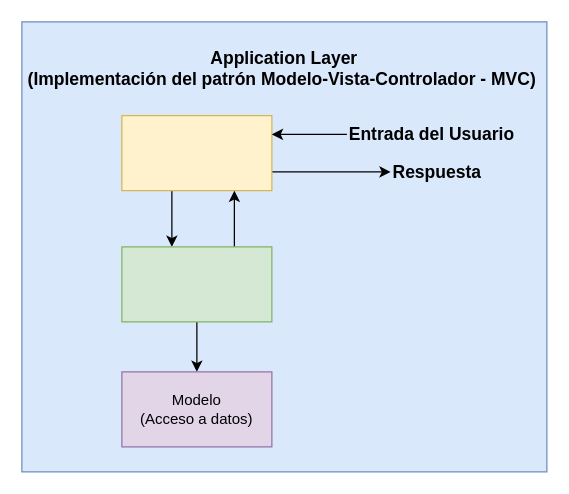
Image size: 569x494. Some labels were removed from this diagram. The shapes that lost their labels are listed below. From the top down, each one's box as (x1, y1, x2, y2) in pixels, then its label:
(121, 114, 272, 191): Vista (Pantallas, UI)
(121, 246, 272, 322): Controlador (Lógica de flujo)
